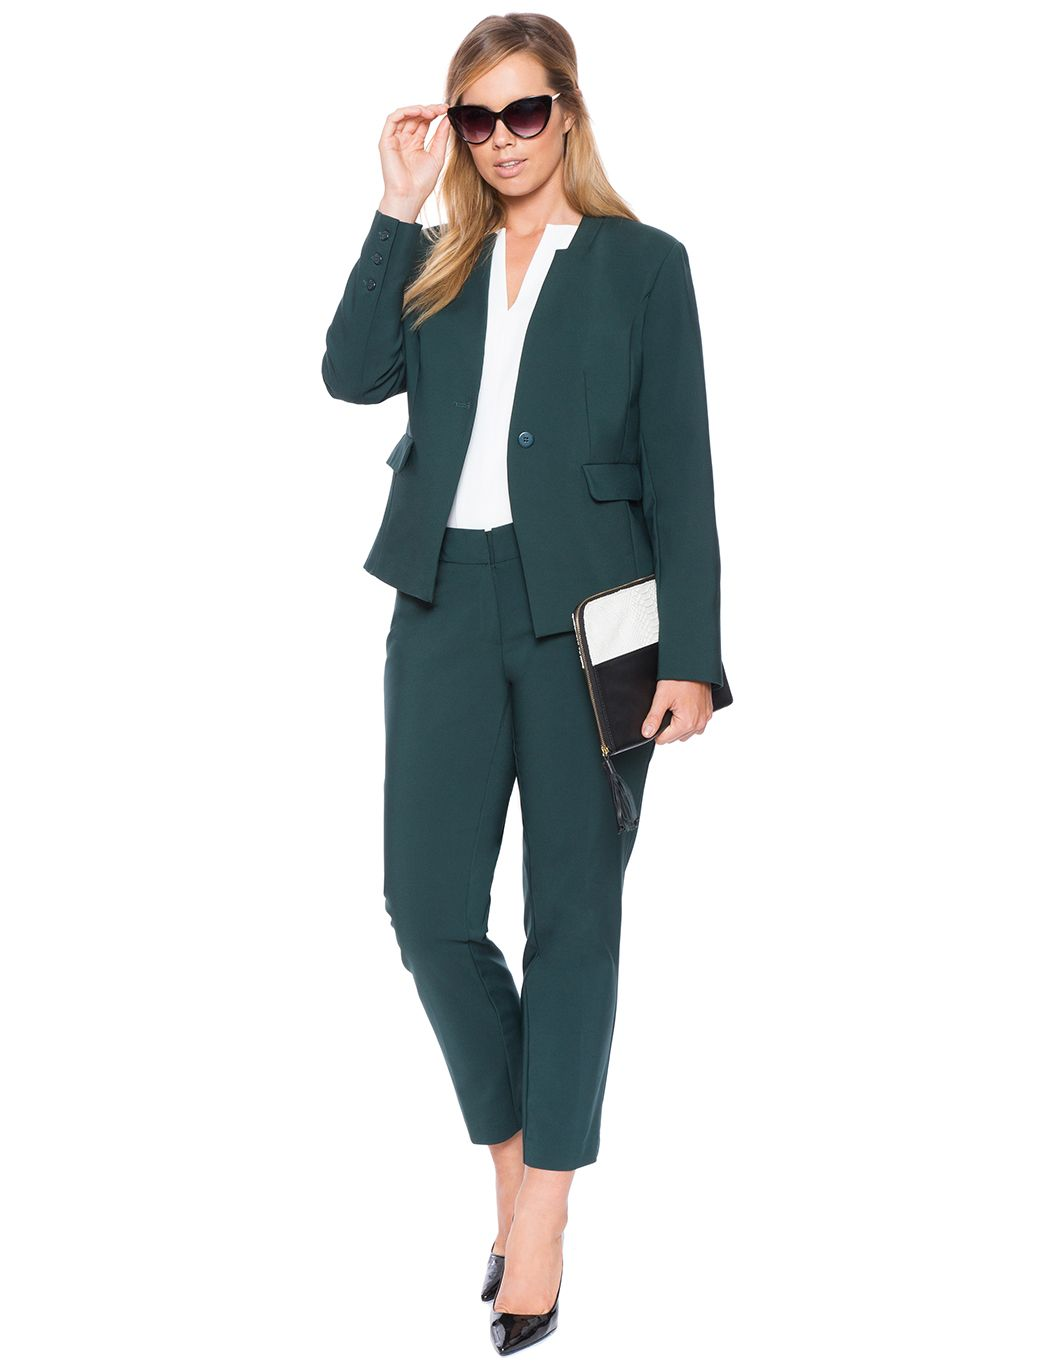F_W_suit jacket: (306, 188, 751, 668)
